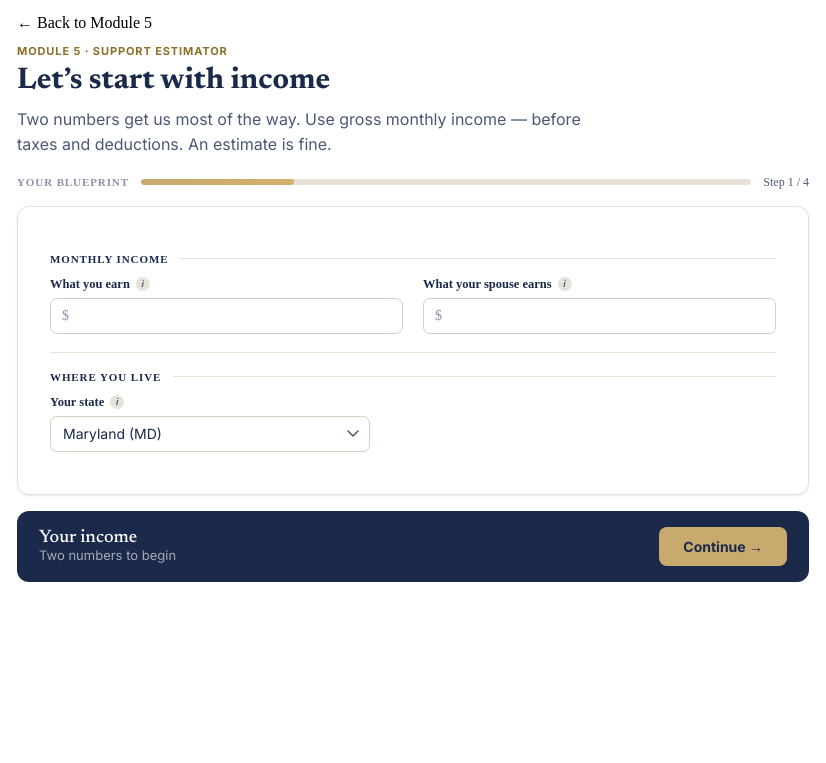
Test: Support Estimator wizard flow › Back from step 2 returns to step 1
Click the button with test id "se-next": coordinates (723, 546) x1=659 y1=527 x2=787 y2=566
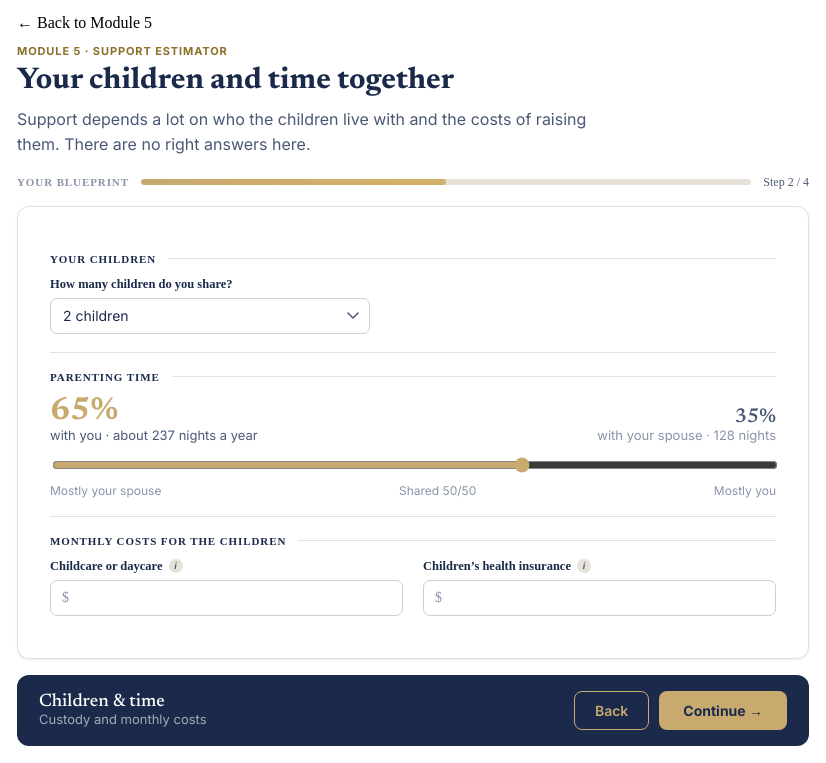
Result: the element with test id "se-step-children" is shown at x1=50 y1=235 x2=776 y2=634
Click the button with test id "se-back": coordinates (612, 710) x1=574 y1=691 x2=649 y2=730
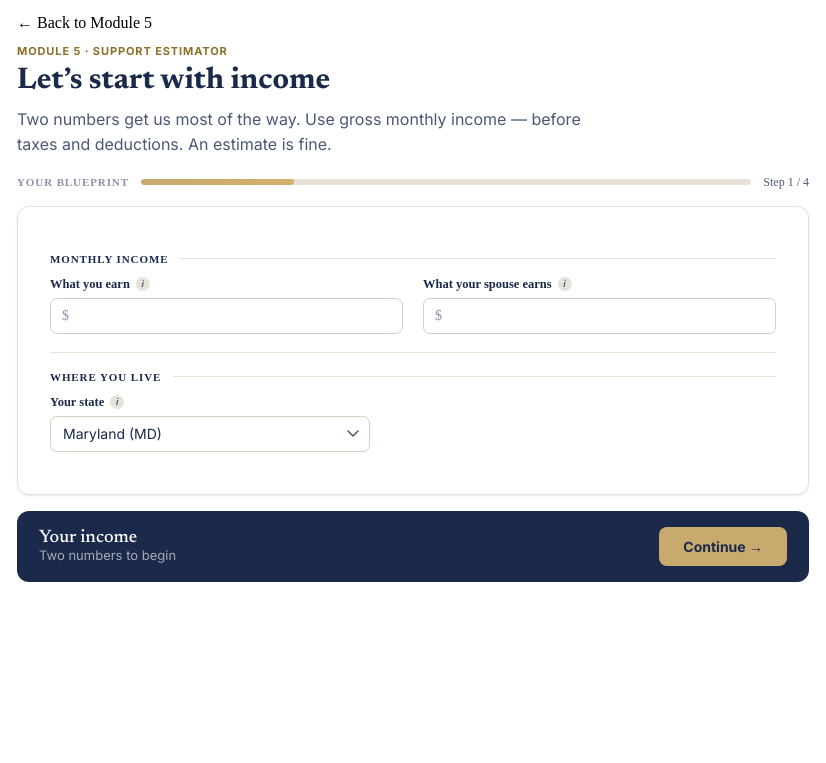
Result: the element with test id "se-step-income" is shown at x1=50 y1=235 x2=776 y2=470
